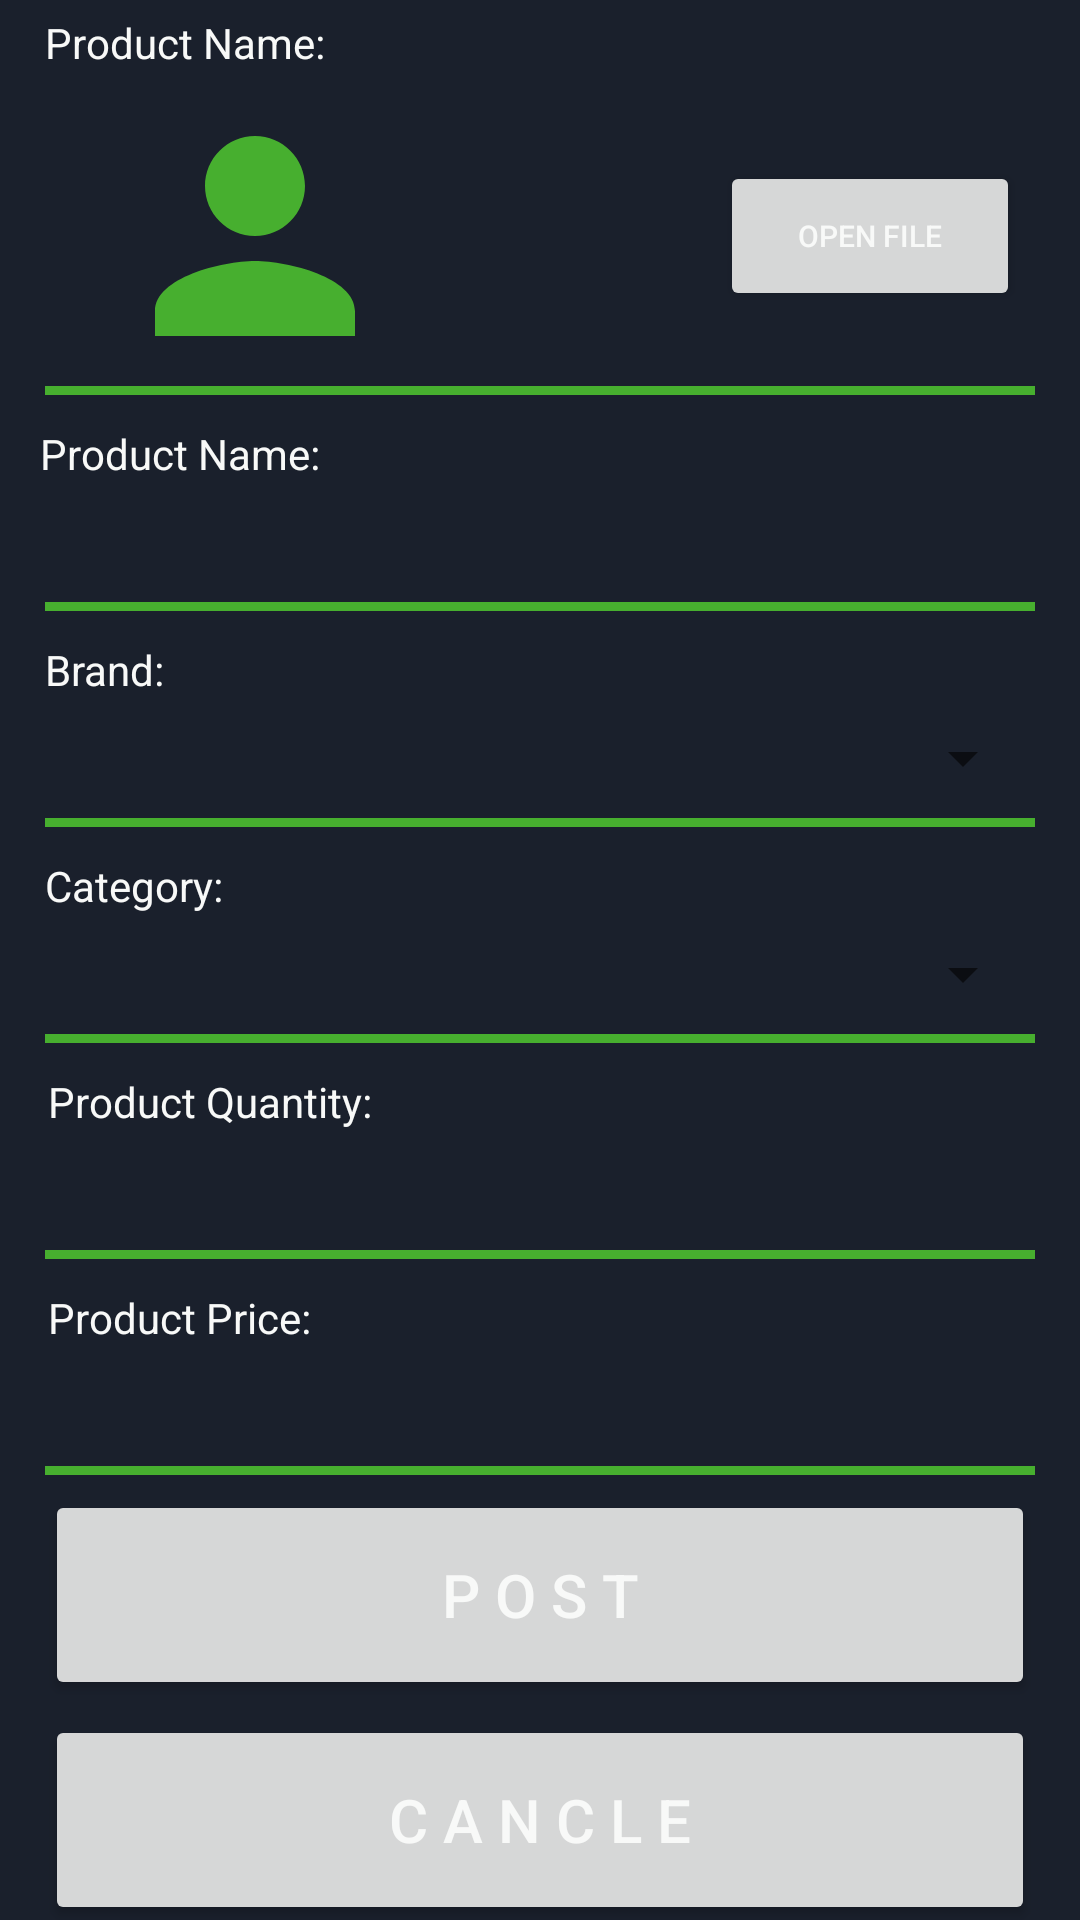

Where to tap for icons on this 1080 x 1920 app screen, as [x,y]:
person: [255,236]
